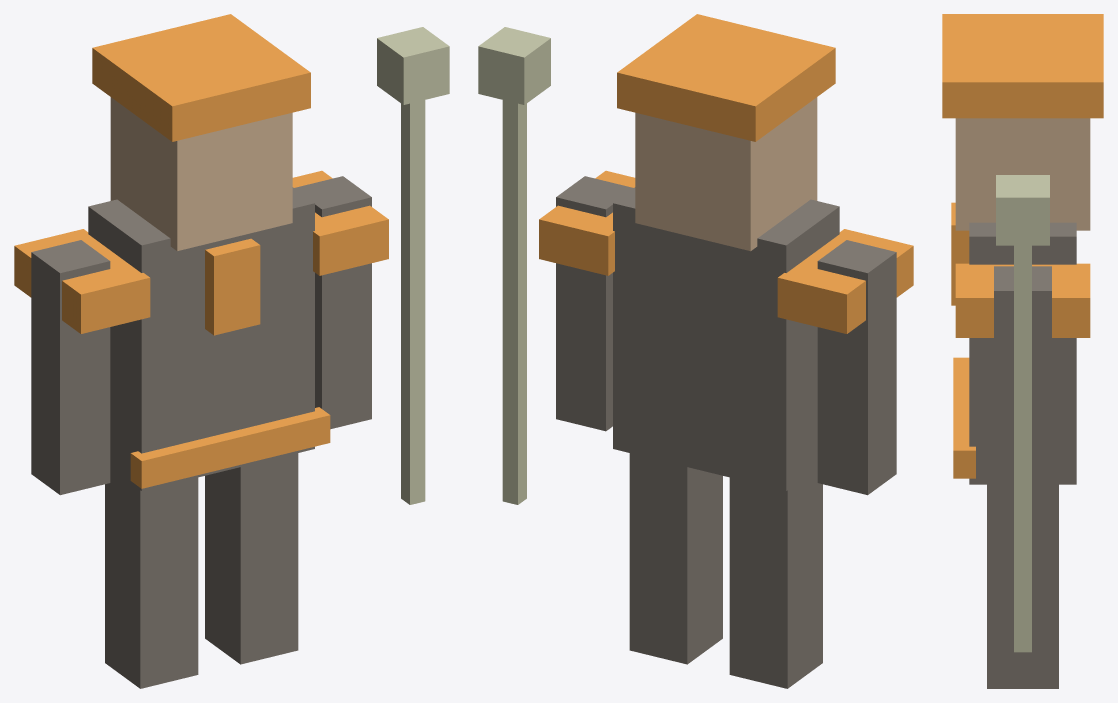
File: 11_cassian_chromabell_fixer_of_firewheel.glb
3 renders of one model, left to right at view 1: azimuth 30°, elevation 25°; view 2: azimuth 150°, elevation 25°; view 3: azimuth 270°, elevation 25°, orthographic.
Visible parts, largest first — view 1: Cassian Chromabell, Fixer of Firewheel; view 2: Cassian Chromabell, Fixer of Firewheel; view 3: Cassian Chromabell, Fixer of Firewheel.
Part boxes in pixels (x1,y1,x2,y2): Cassian Chromabell, Fixer of Firewheel: (14, 14, 449, 688); Cassian Chromabell, Fixer of Firewheel: (478, 14, 913, 688); Cassian Chromabell, Fixer of Firewheel: (942, 14, 1103, 688).
Bounding box in the file's own units: 1.07 × 1.57 × 0.3811.
